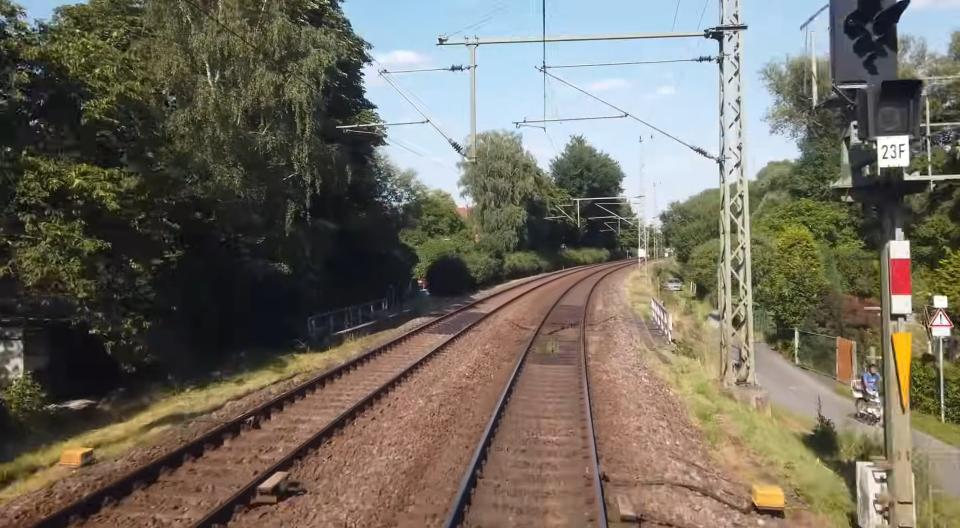Plant: (545, 338, 558, 355)
